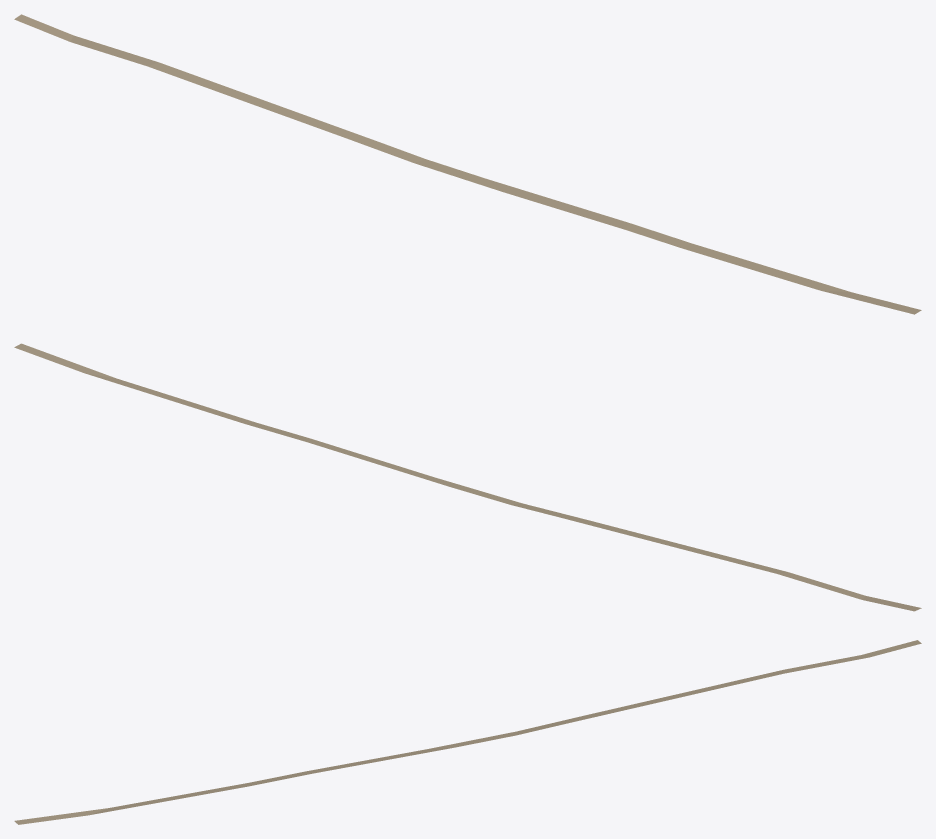
Rendered from farm_-37_-27_track.glb.
3 views of the same model, one above another, from view 1: azimuth 30°, elevation 25°; view 2: azimuth 210°, elevation 25°; view 3: azimuth 270°, elevation 25° (orthographic). The views are drawn at different scales.
Visible parts, largest first — view 1: geometry_0; view 2: geometry_0; view 3: geometry_0.
Boxes of the visible parts, x1,y1,x2,y2 form: geometry_0: (14,14,921,314); geometry_0: (14,343,921,611); geometry_0: (14,640,921,824).
Size of the model in its own units: 122 by 6.48 by 272.
